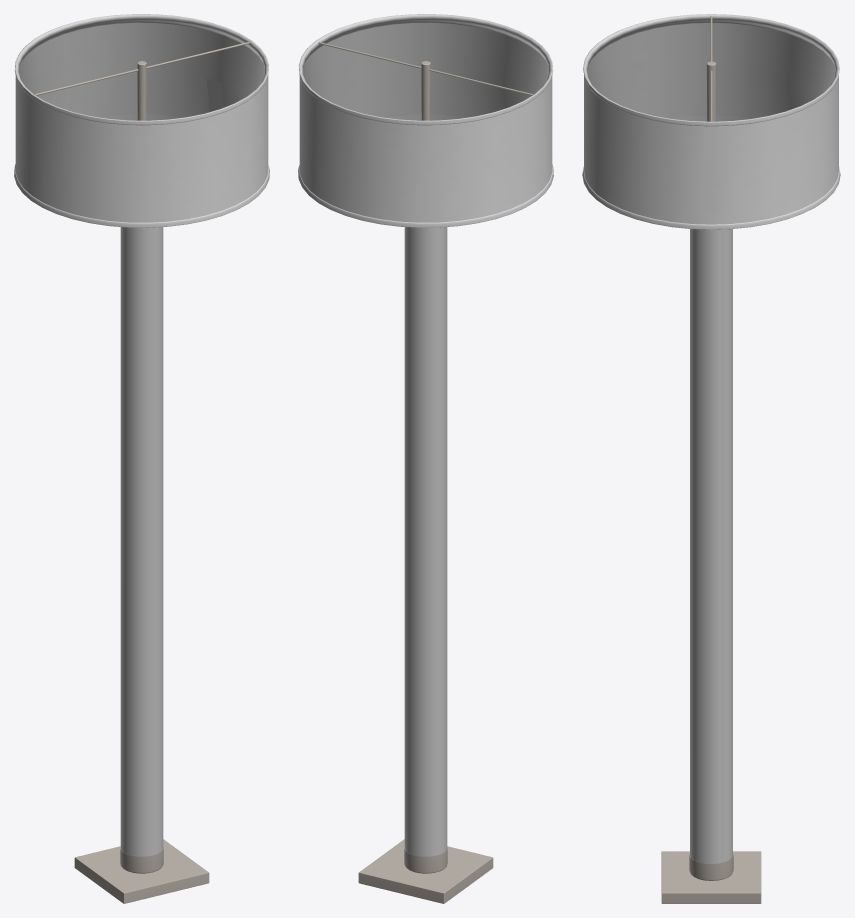
File: abo-B073P2WNLJ.glb
The picture shows the model from 3 angles, left to right: view 1: azimuth 30°, elevation 25°; view 2: azimuth 150°, elevation 25°; view 3: azimuth 270°, elevation 25°; orthographic projection.
Bounding box in the file's own units: 0.42 × 1.47 × 0.42.
1 material, 1 textured.
